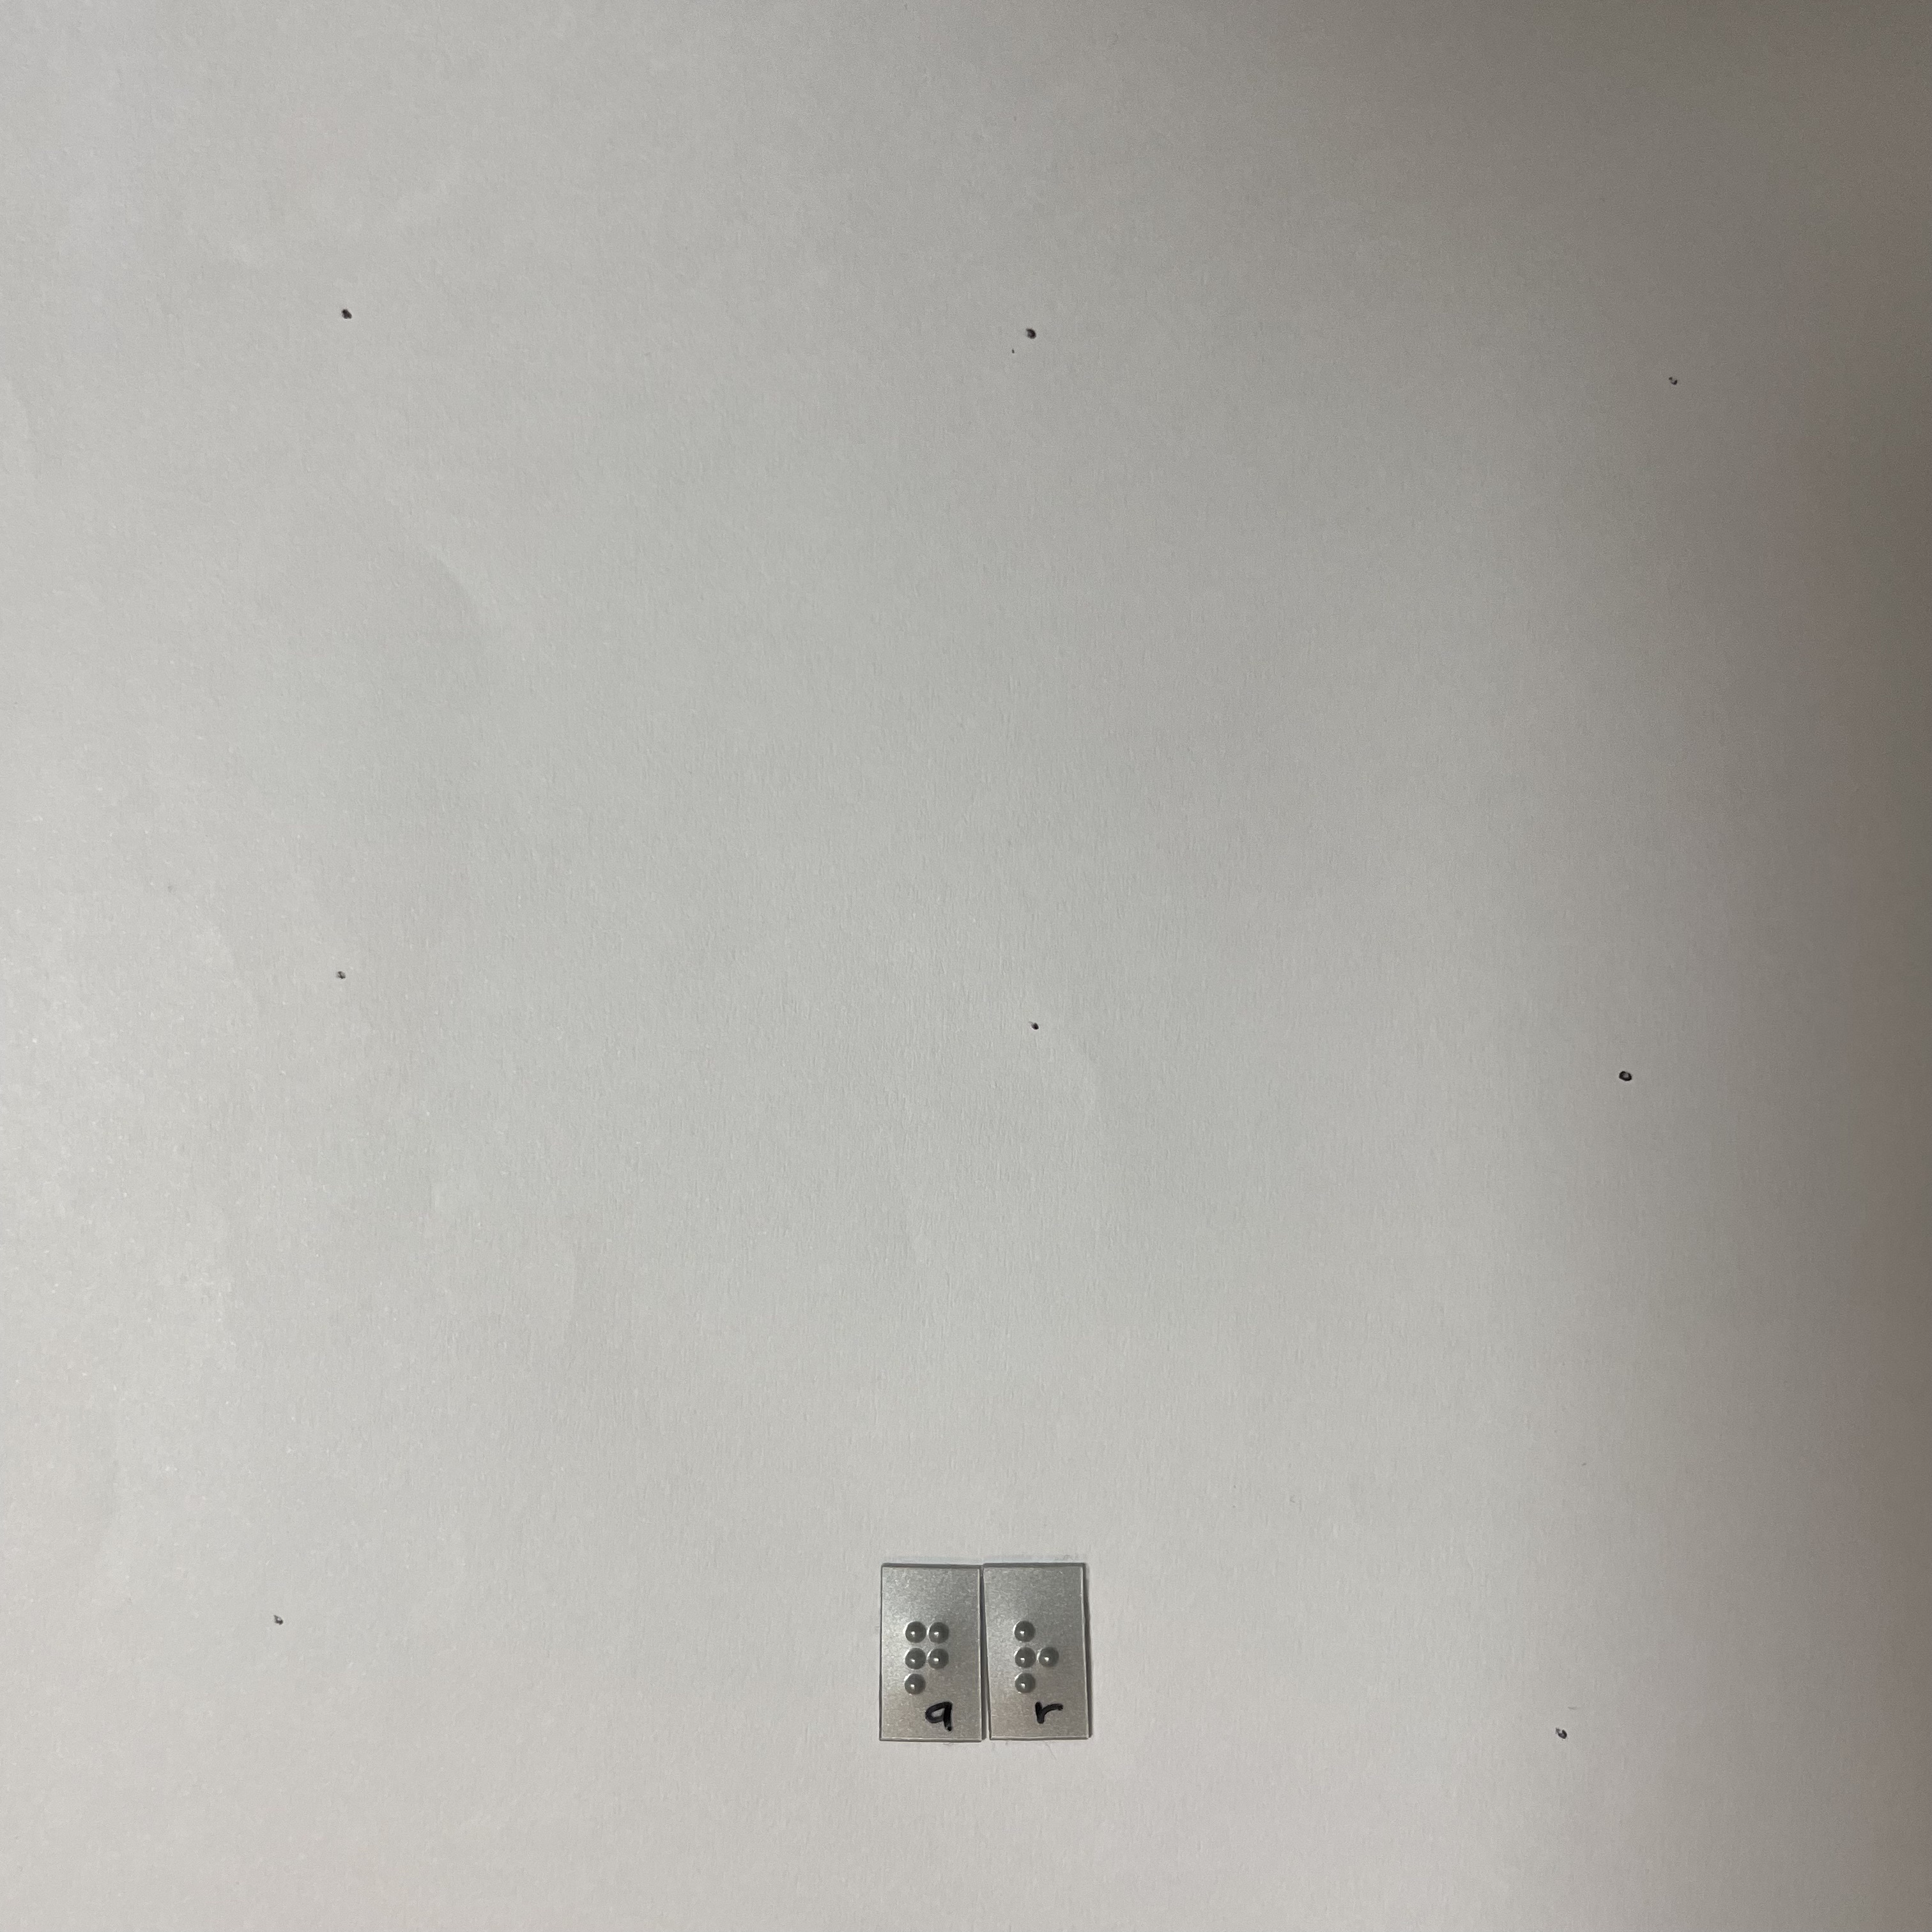q: (897, 1612, 958, 1706)
r: (1004, 1609, 1069, 1704)
